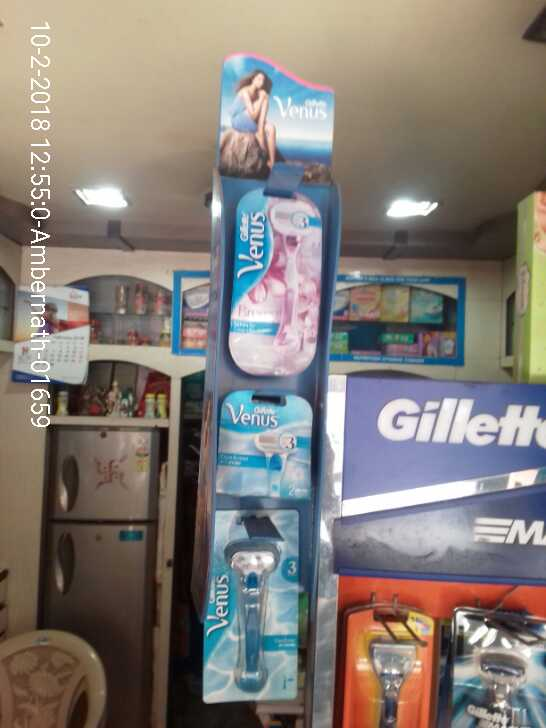beauty: (210, 503, 307, 707), (221, 195, 319, 369), (447, 612, 546, 722), (216, 396, 311, 503), (347, 619, 434, 728)
